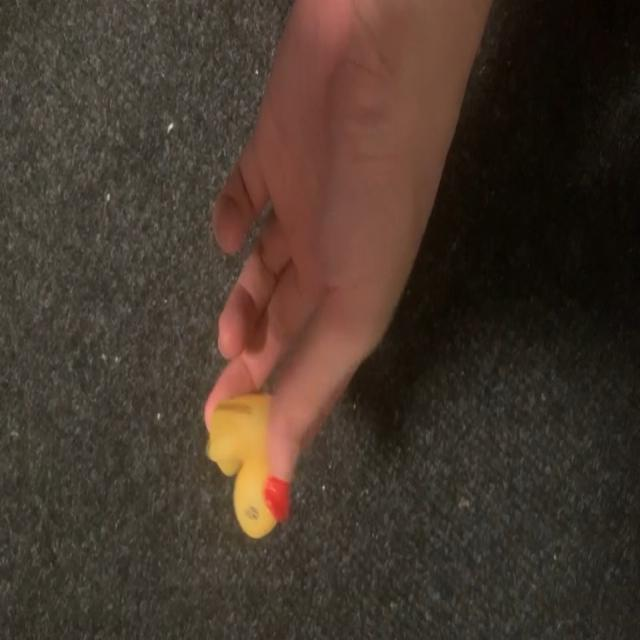rubber-duck: (206, 392, 288, 536)
